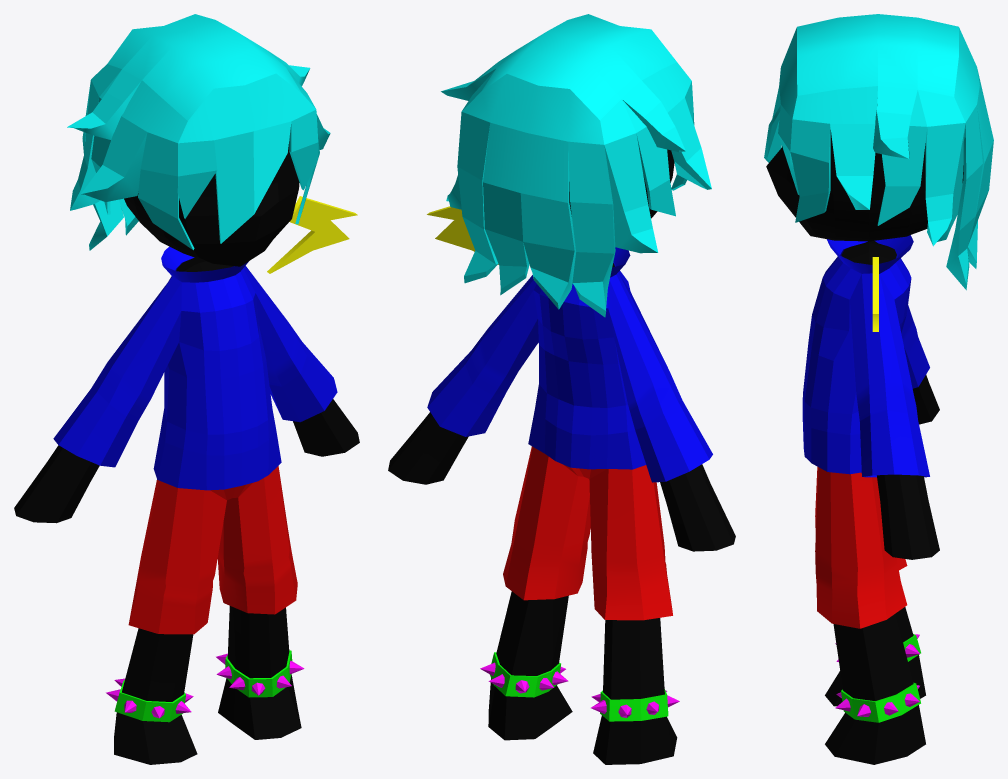
File: PTSD.fbx
The picture shows the model from 3 angles, left to right: view 1: azimuth 30°, elevation 25°; view 2: azimuth 150°, elevation 25°; view 3: azimuth 270°, elevation 25°; orthographic projection.
Parts seen in each view (by area): view 1: pCylinder18; view 2: pCylinder18; view 3: pCylinder18.
Part boxes in pixels (box(x1,y1,x2,y2)): pCylinder18: box(14, 14, 359, 764); pCylinder18: box(388, 14, 735, 764); pCylinder18: box(764, 14, 993, 764).
Size of the model in its own units: 215 by 416 by 125.
